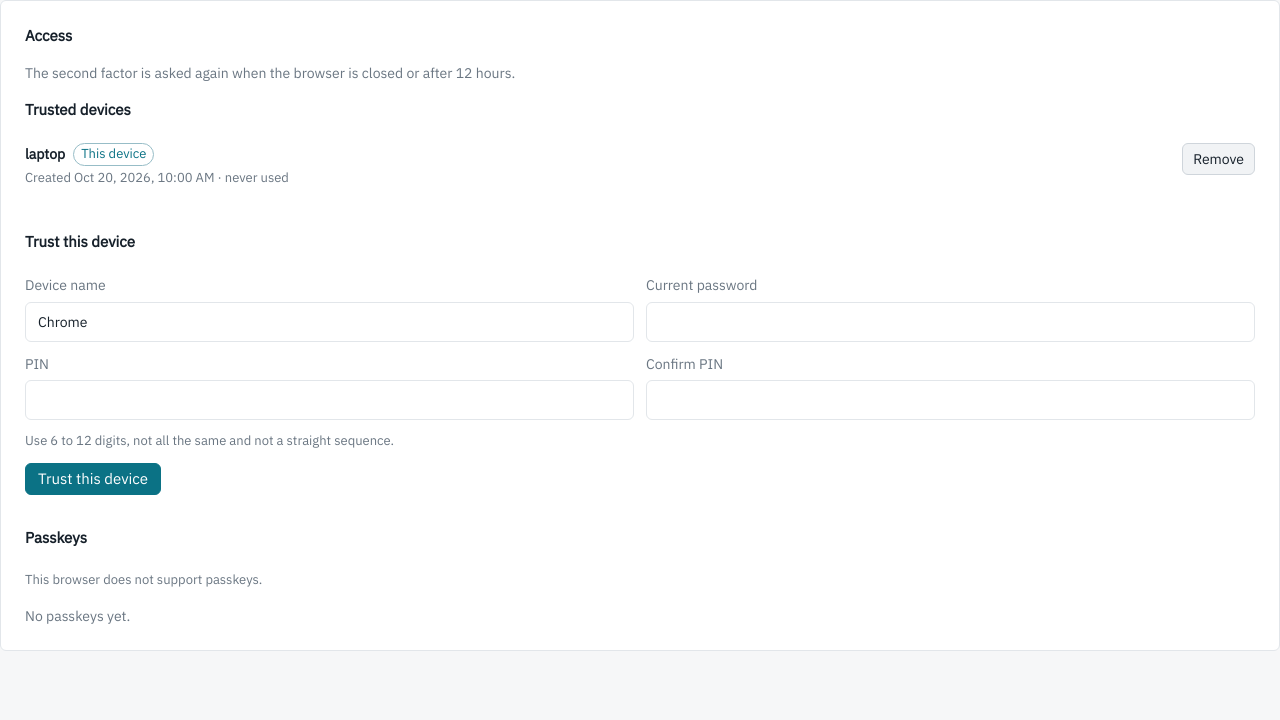
AccessCard › removes the current device and forgets it
Click the button with aria-label "Remove laptop": click(1219, 159) [1182,143,1255,175]
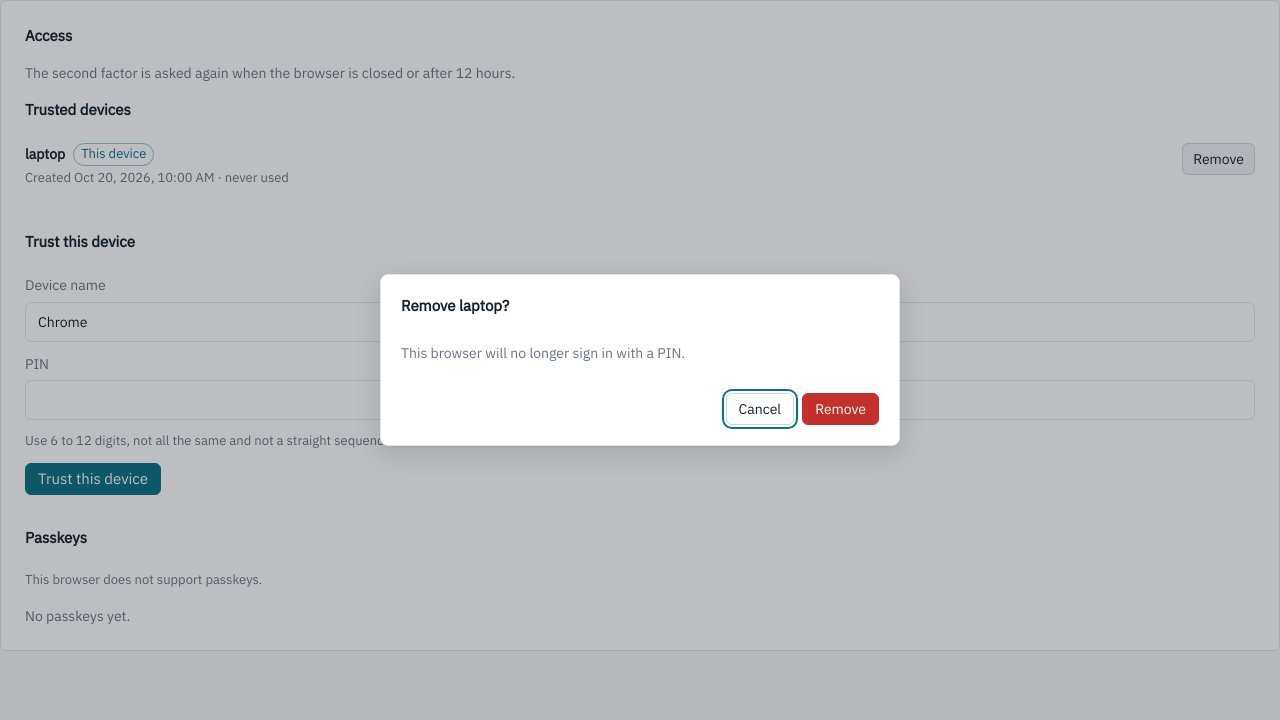
Check: the dialog is shown, box [380,274,900,446]
Check: the heading "Remove laptop?" is shown, box [401,296,509,315]
Check: the text "This browser will no longer sign in with a PIN." is shown, box [401,344,685,362]
Click the button "Remove": click(841, 409) [802,393,879,425]
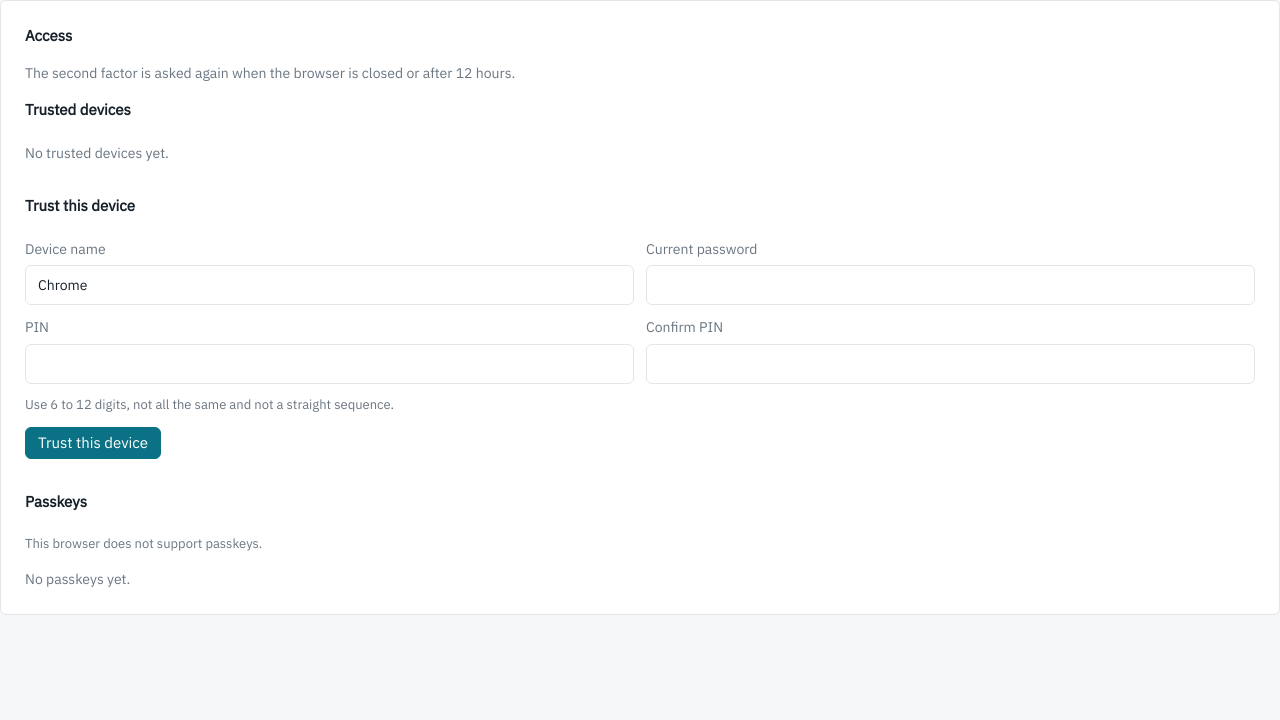
Check: the dialog is gone
Check: the text "No trusted devices yet." is shown, box [25,144,169,162]
